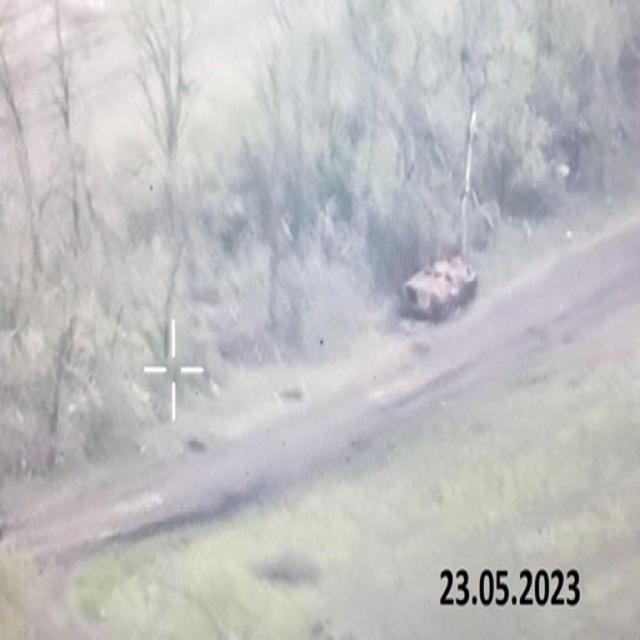APC-IFV: (398, 224, 483, 324)
